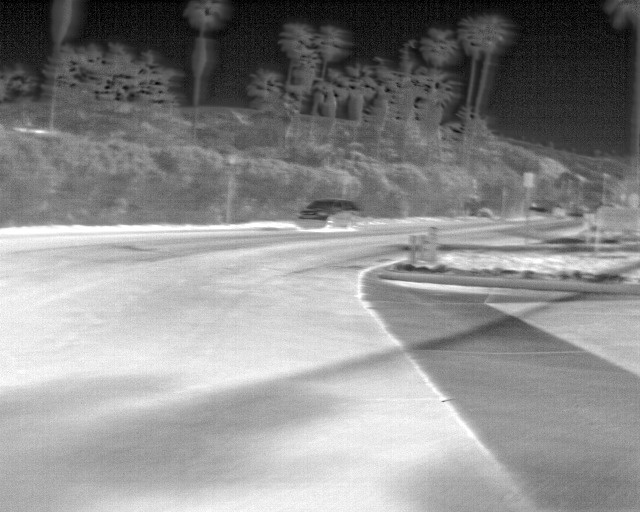vehicle: (297, 197, 373, 233)
